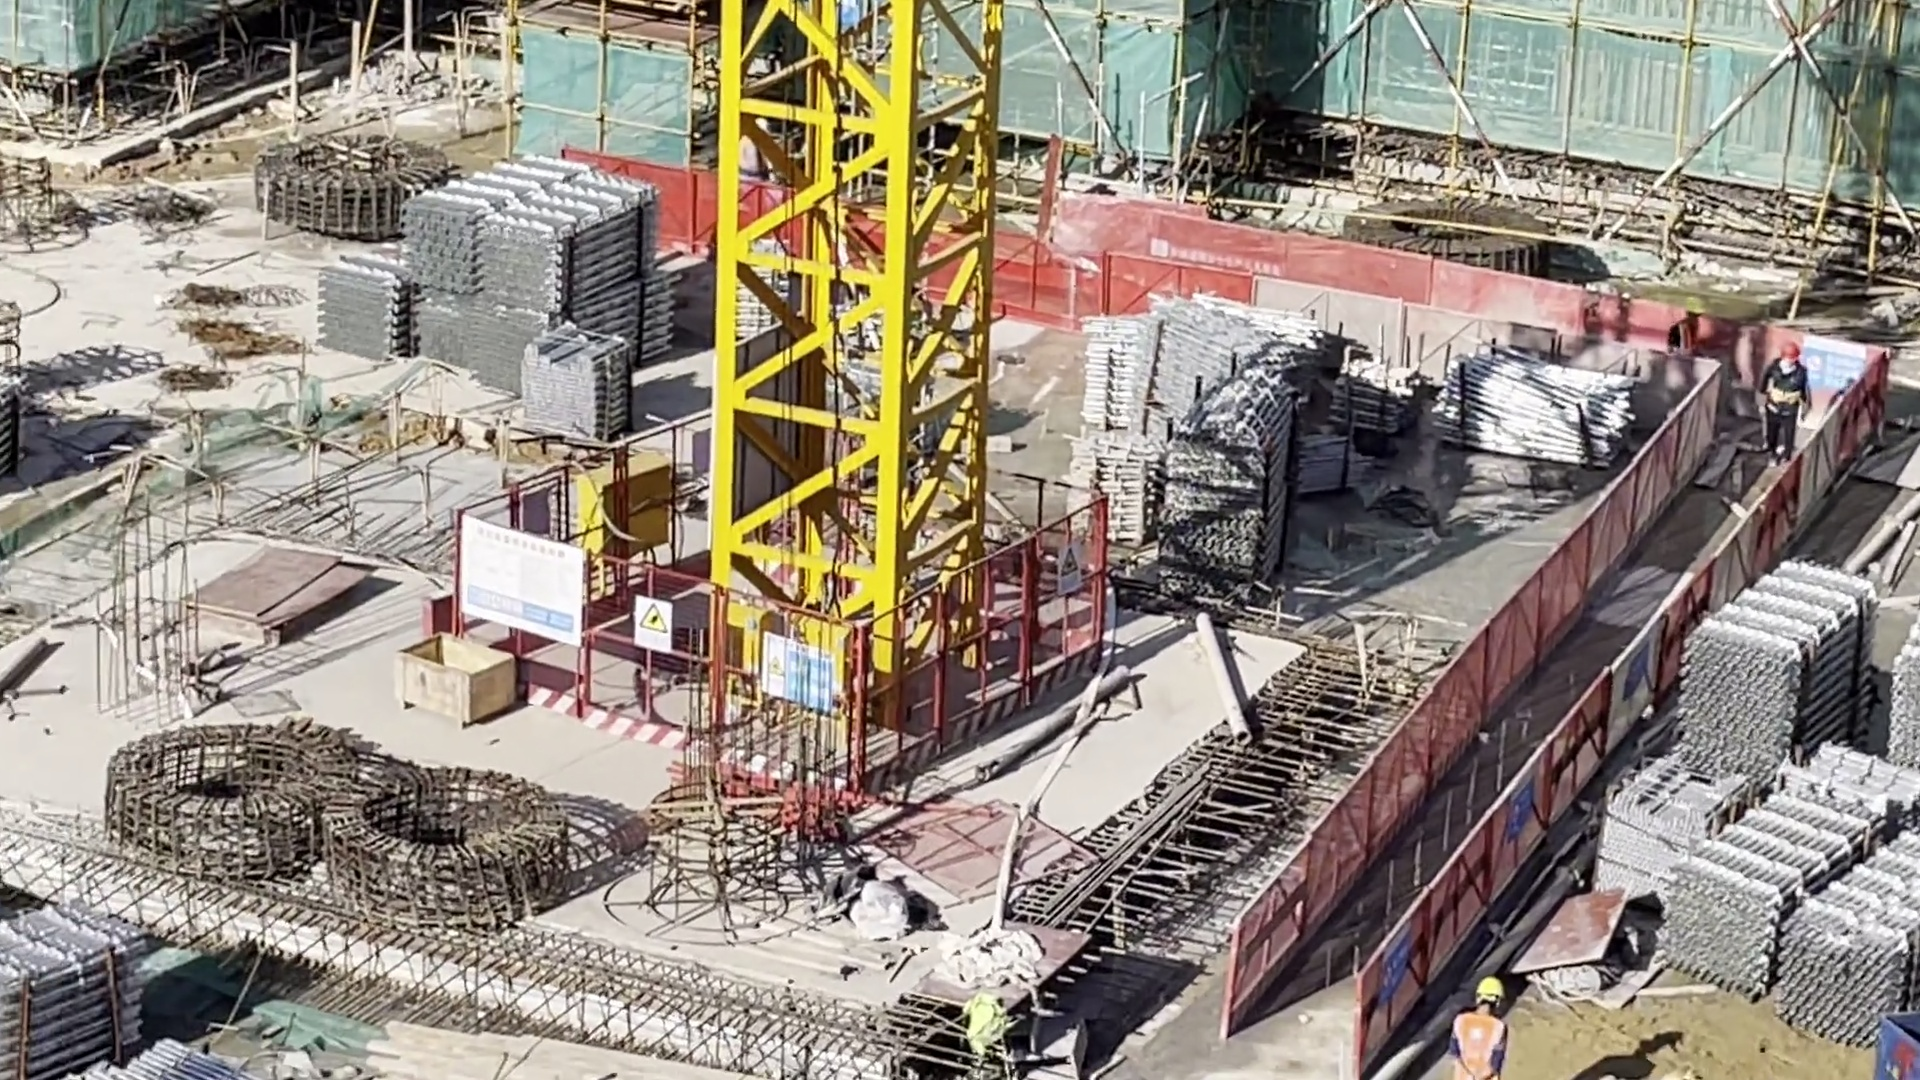board: (186, 554, 378, 643)
ebox: (575, 457, 675, 566)
fence: (1235, 379, 1886, 1068), (1001, 191, 1663, 370)
helmet: (1476, 978, 1504, 1000), (1684, 296, 1706, 316)
person: (1758, 341, 1805, 464), (1455, 979, 1509, 1080), (1670, 296, 1711, 357)
scaffold: (401, 154, 667, 381), (1661, 791, 1881, 991), (1681, 564, 1871, 764), (1781, 827, 1920, 1041), (1078, 307, 1306, 435), (1, 901, 155, 1080), (1173, 375, 1286, 579), (1440, 356, 1628, 460), (1067, 435, 1165, 547), (523, 330, 627, 435), (317, 247, 407, 359), (1328, 362, 1415, 430)
slogan: (758, 637, 831, 711), (1802, 335, 1869, 396), (632, 600, 670, 650), (1383, 930, 1409, 999), (1509, 772, 1535, 838), (1055, 545, 1083, 596)
vest: (1451, 1011, 1505, 1080), (1675, 320, 1692, 350)
